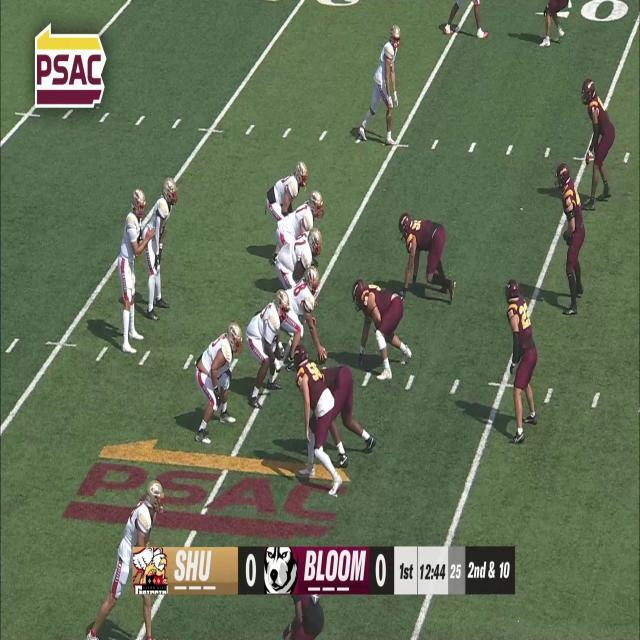football: (316, 351, 328, 364)
